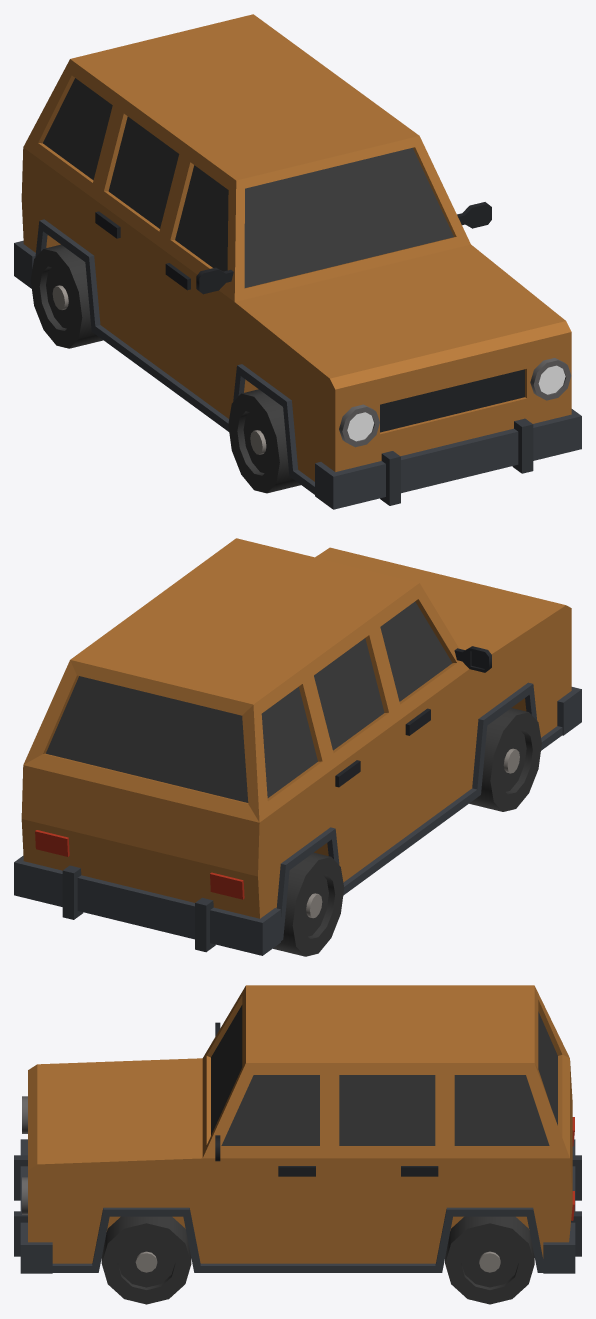
Rendered from Jeep_1.fbx.
The picture shows the model from 3 angles, top to bottom: view 1: azimuth 30°, elevation 25°; view 2: azimuth 150°, elevation 25°; view 3: azimuth 270°, elevation 25°; orthographic projection. The views are drawn at different scales.
Parts seen in each view (by area): view 1: Jeep_1; view 2: Jeep_1; view 3: Jeep_1.
Part boxes in pixels (bbox=[...]): Jeep_1: bbox=[14, 14, 581, 509]; Jeep_1: bbox=[14, 538, 581, 956]; Jeep_1: bbox=[14, 985, 581, 1304].
Size of the model in its own units: 272 by 229 by 526.
